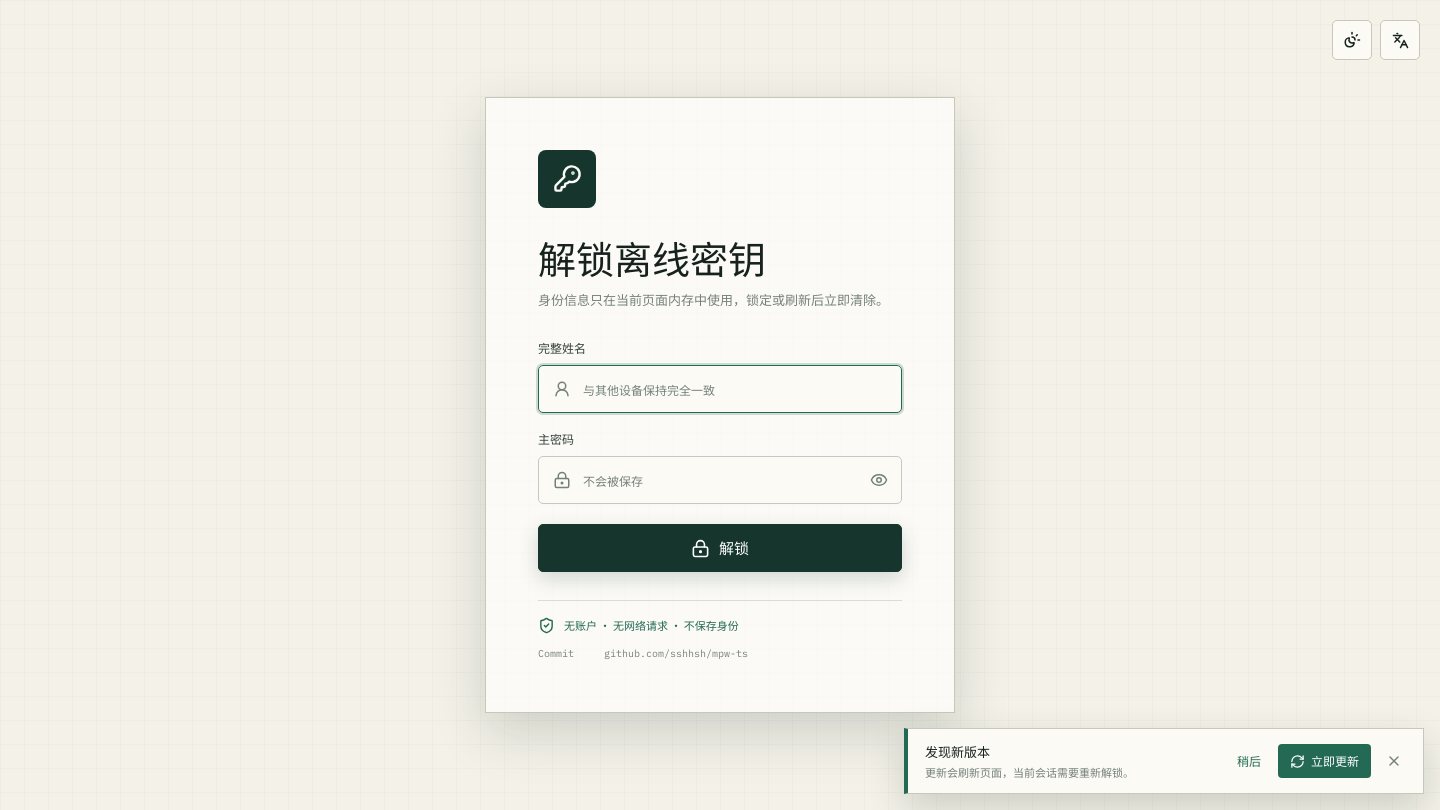
Test case: App session workflow › opens the encrypted QR history migration dialog
In the field labelled "完整姓名": (741, 389) [581, 366, 901, 412], type "user"
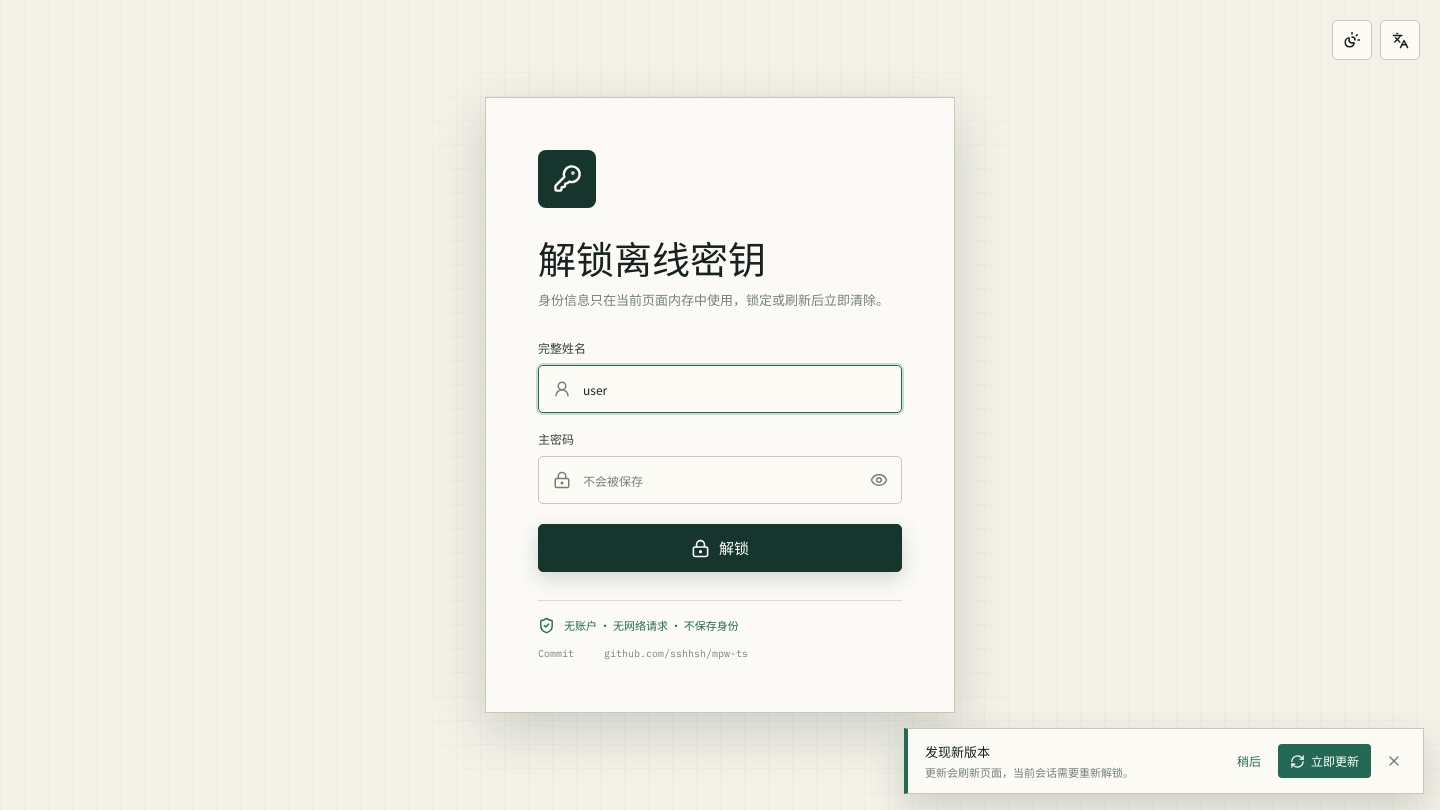
In the password field with placeholder "不会被保存": (714, 480) [581, 457, 847, 503], type "password"
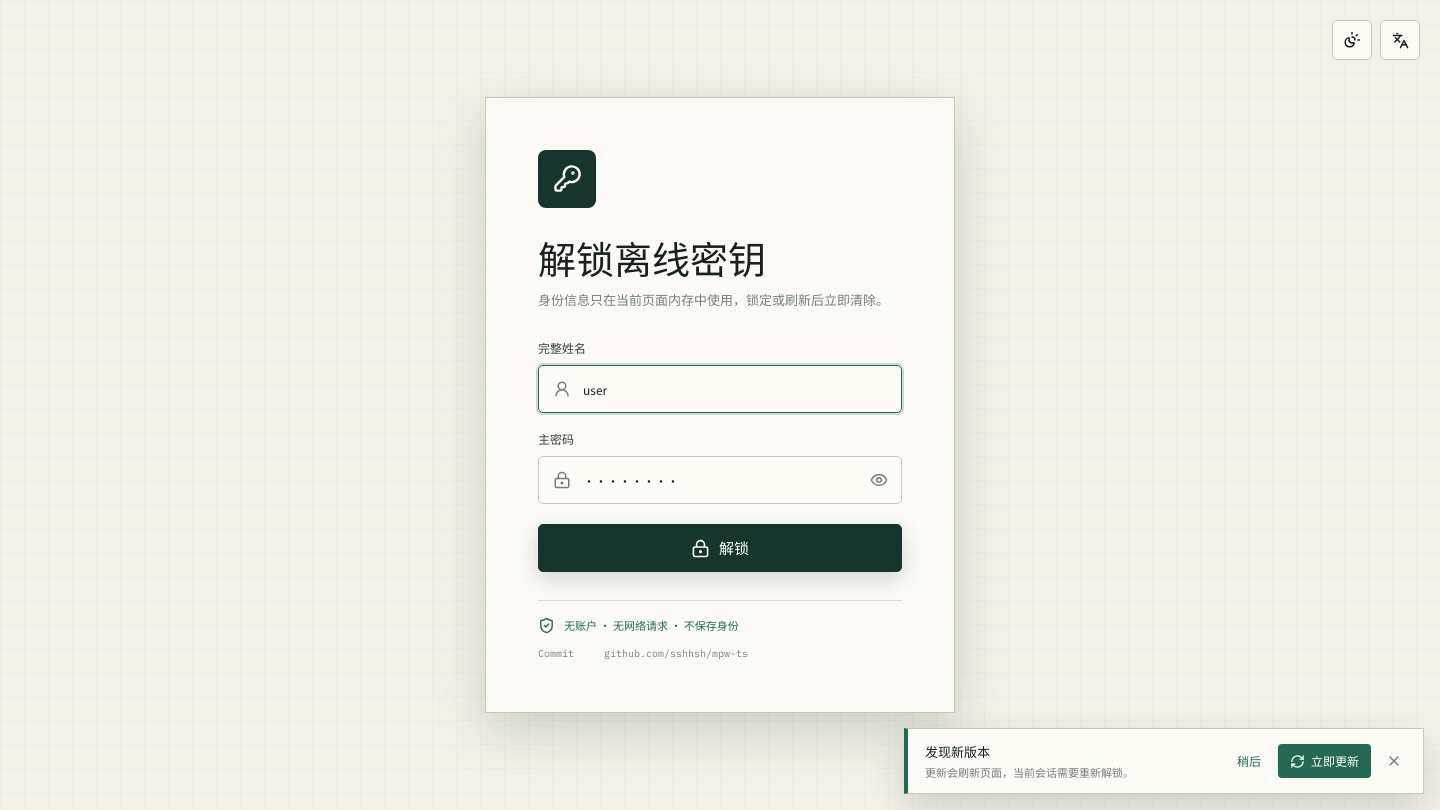
Click the button "解锁": (720, 548) [538, 524, 902, 572]
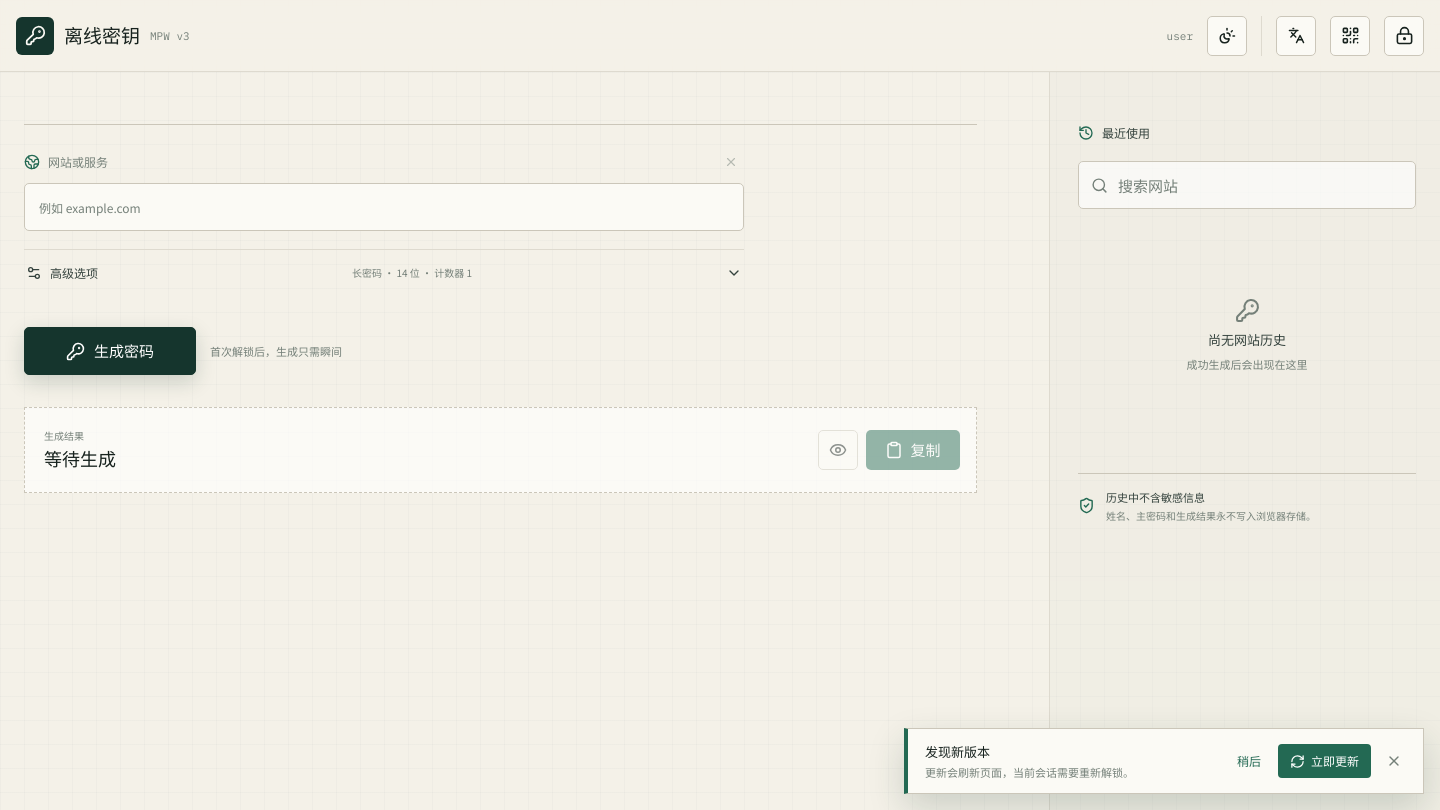
Now the field labelled "网站或服务" is shown, box [24, 183, 744, 231]
Click the button named "迁移网站历史": (1350, 36) [1330, 16, 1370, 56]
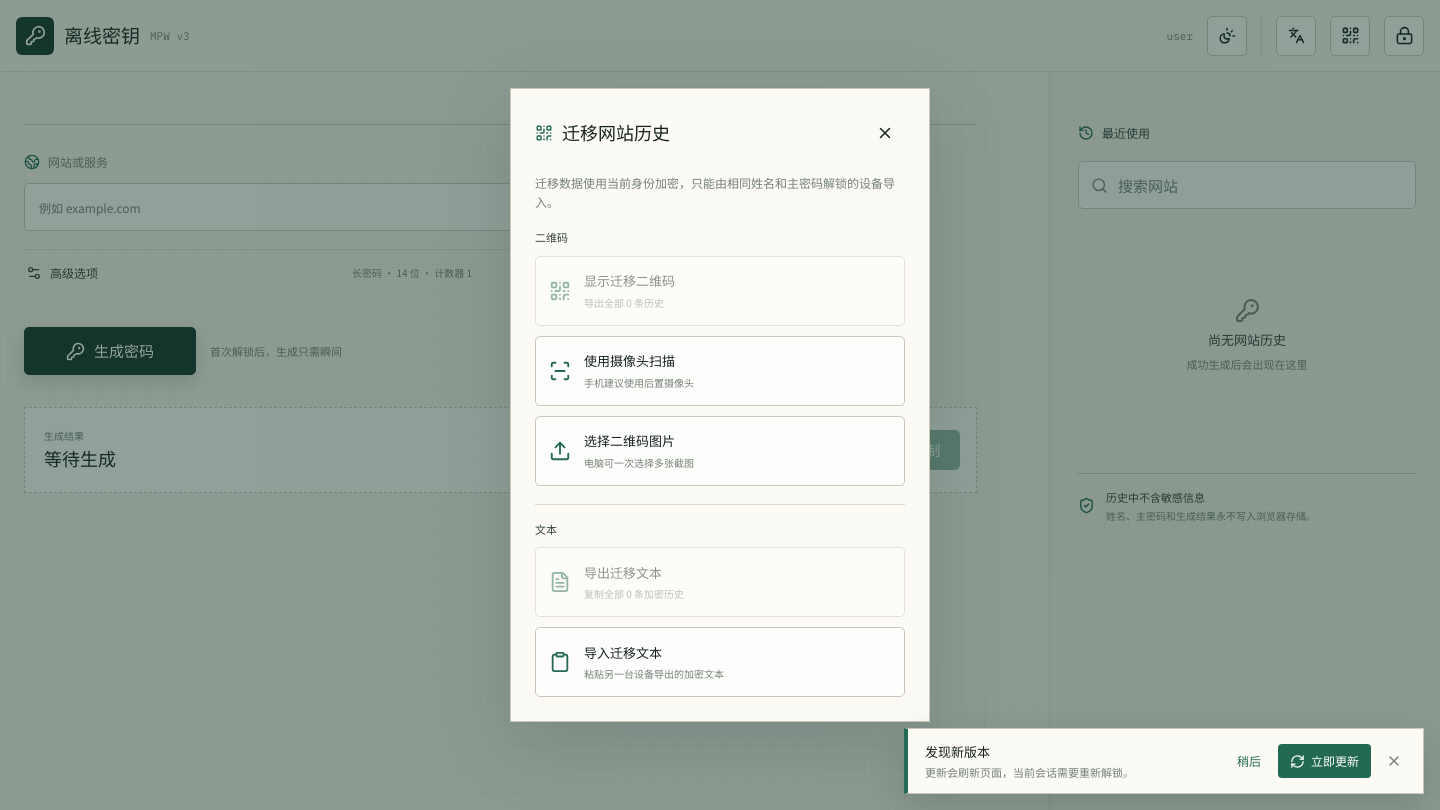
Now the dialog "迁移网站历史" is shown, box [510, 88, 930, 722]
Now the text "迁移数据使用当前身份加密，只能由相同姓名和主密码解锁的设备导入。" is shown, box [535, 173, 905, 211]
Now the text "导出迁移文本" is shown, box [584, 563, 662, 582]
